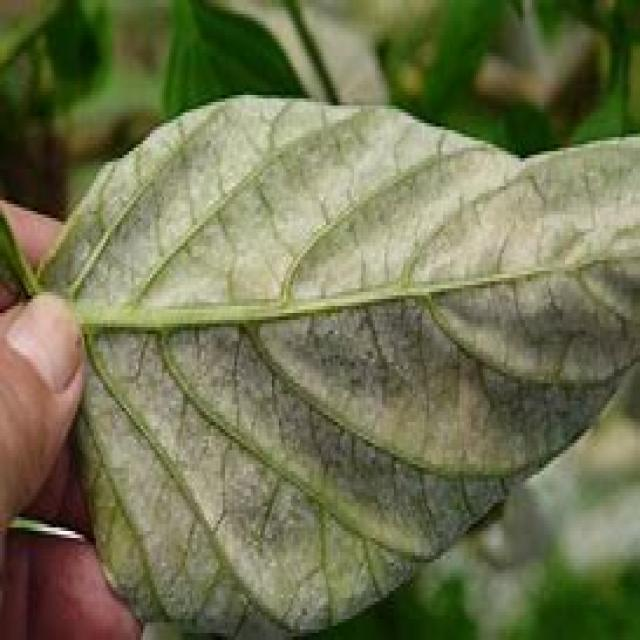Leaf_Mold: (69, 116, 640, 570)
